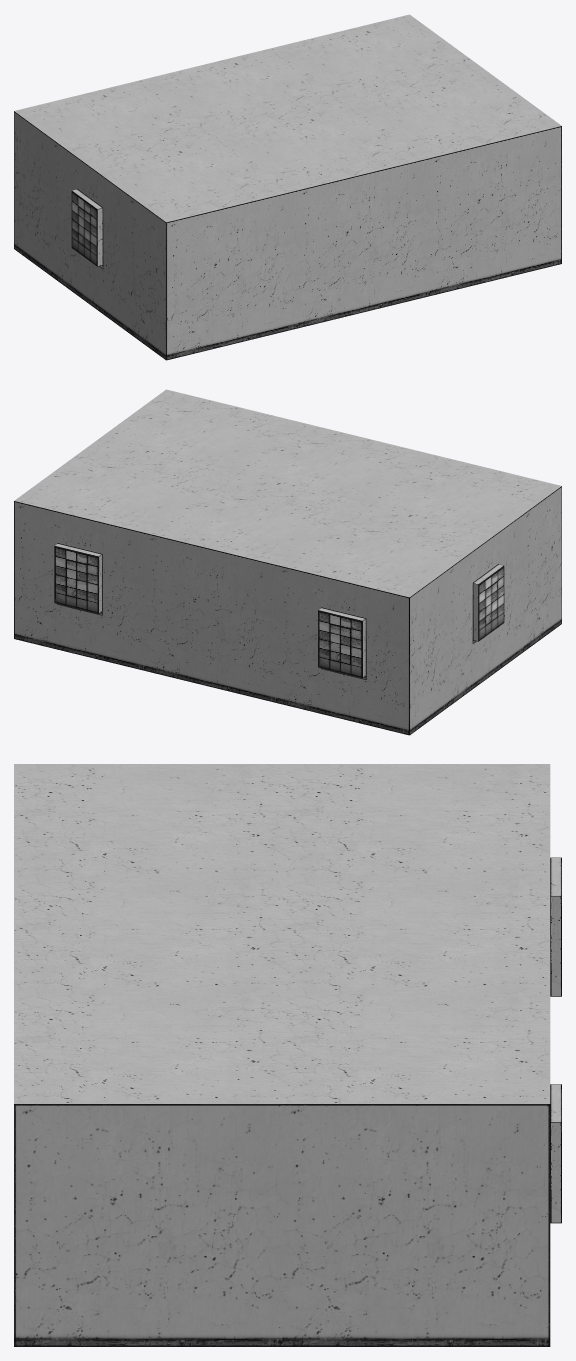
3 renders of one model, top to bottom at view 1: azimuth 30°, elevation 25°; view 2: azimuth 150°, elevation 25°; view 3: azimuth 270°, elevation 25°, orthographic. The views are drawn at different scales.
Parts seen in each view (by area): view 1: Ceiling_01, Wall_04, Wall_01; view 2: Ceiling_01, Wall_02, Wall_01; view 3: Ceiling_01, Wall_03, Wall_02.
Part boxes in pixels (x1,y1,x2,y2): Ceiling_01: [14, 14, 561, 222]; Wall_04: [166, 126, 561, 360]; Wall_01: [14, 111, 166, 359]; Ceiling_01: [14, 389, 561, 597]; Wall_02: [14, 501, 409, 735]; Wall_01: [409, 486, 561, 734]; Ceiling_01: [14, 764, 550, 1103]; Wall_03: [14, 1104, 550, 1346]; Wall_02: [550, 857, 561, 1223].
Size of the model in its own units: 913 by 300 by 613.
7 materials, 7 textured.
